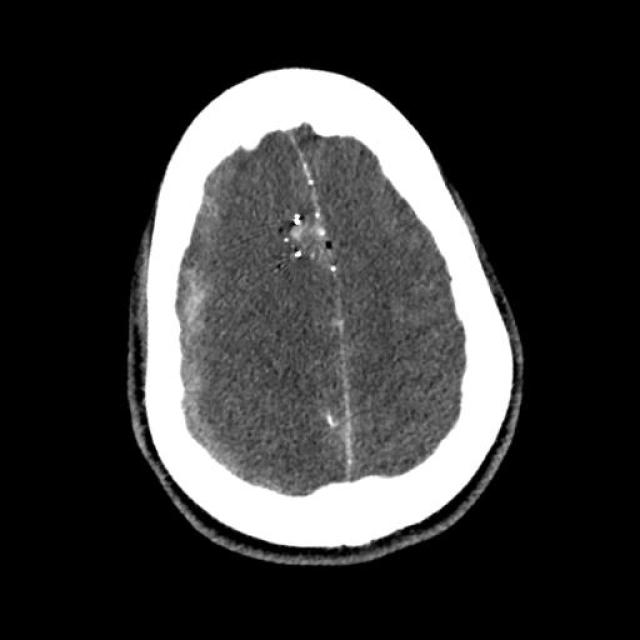Subdural: (106, 155, 302, 496)
